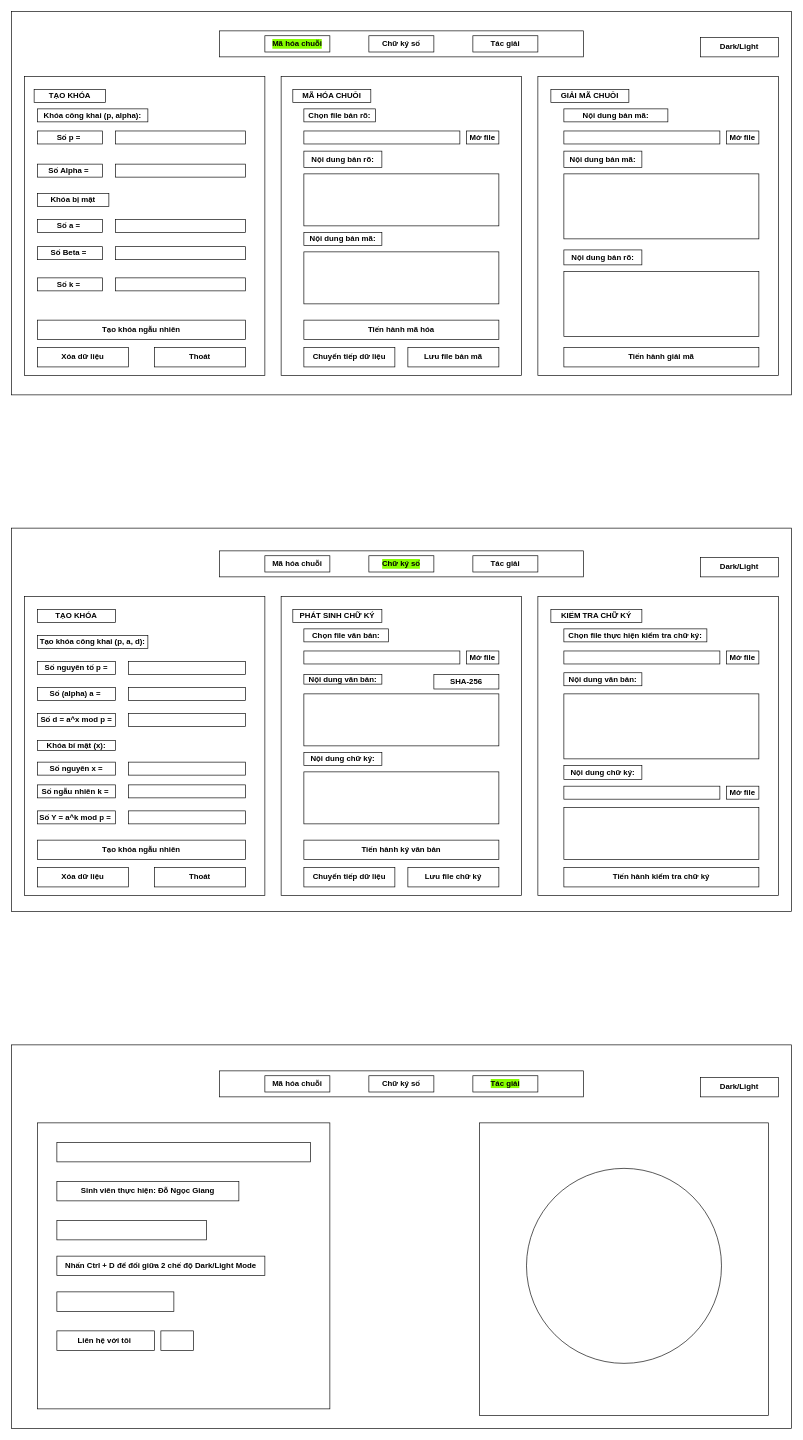
Image size: 803x1440. Some labels were removed from this diagram. Here are the shapes that lost their labels. From the top down, the centre of each, then its label:
At (183,1152): "Đề tài: Tìm hiểu chữ ký điện tử Elgamal và viết ứng dụng minh họa".
At (131,1230): "Nhấn F1 - F9 thay đổi Themes".
At (624,1265): "ẢNH MÈO - CHÓ".
At (115,1301): "Xem hướng dẫn tại đây".
At (176,1340): "MESS".
